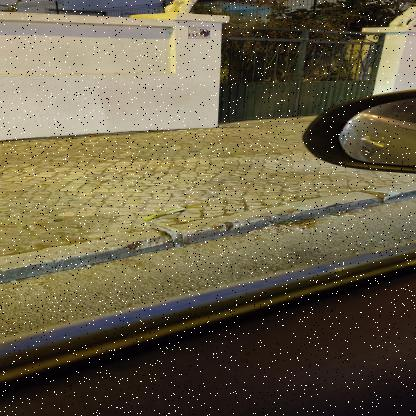cardboard: (140, 207, 186, 221)
